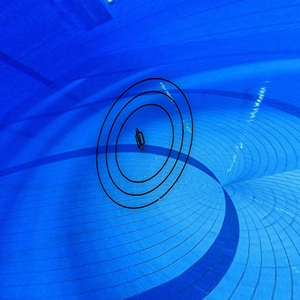circle: (95, 73, 197, 212)
submarine: (133, 128, 155, 158)
